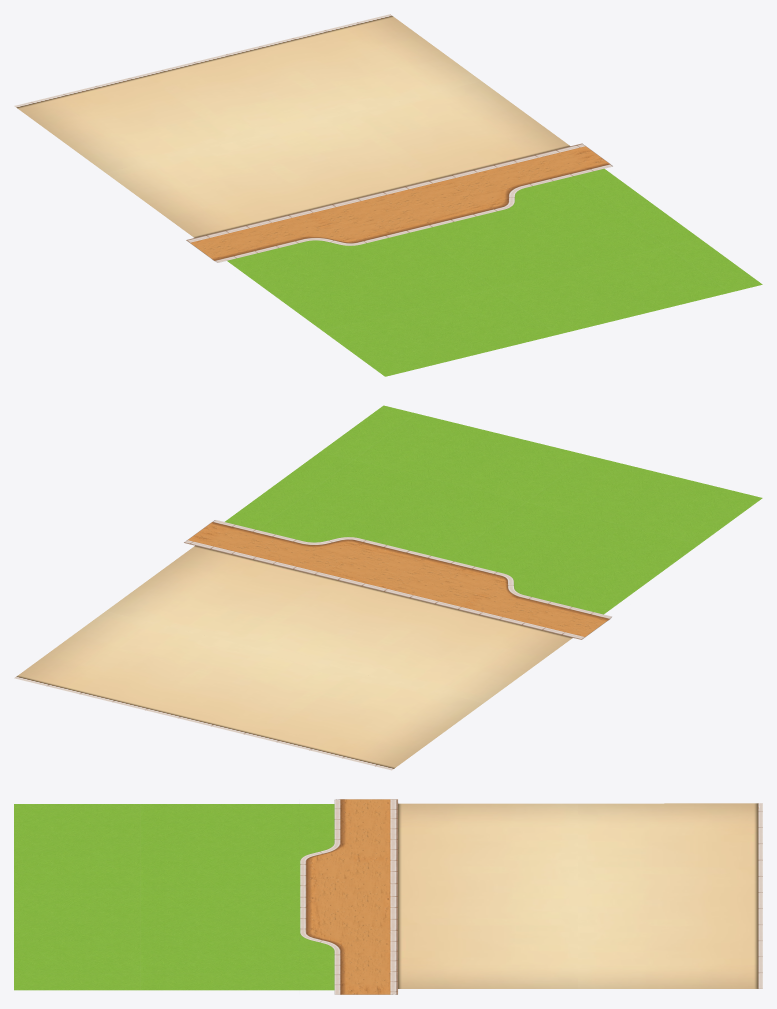
Rendered from source_floor.glb.
3 renders of one model, top to bottom at view 1: azimuth 30°, elevation 25°; view 2: azimuth 150°, elevation 25°; view 3: azimuth 270°, elevation 25°, orthographic.
Visible parts, largest first — view 1: Floor01, Floor03 (2), Floor03 (1), Floor02; view 2: Floor01, Floor03 (2), Floor03 (1), Floor02; view 3: Floor01, Floor03 (2), Floor03 (1), Floor02.
Boxes of the visible parts, bbox=[...] form: Floor01: bbox=[227, 168, 762, 376]; Floor03 (2): bbox=[14, 14, 480, 172]; Floor03 (1): bbox=[106, 81, 570, 237]; Floor02: bbox=[186, 143, 612, 262]; Floor01: bbox=[225, 405, 762, 614]; Floor03 (2): bbox=[14, 611, 483, 770]; Floor03 (1): bbox=[106, 545, 572, 703]; Floor02: bbox=[184, 520, 611, 639]; Floor01: bbox=[14, 804, 334, 990]; Floor03 (2): bbox=[578, 803, 762, 988]; Floor03 (1): bbox=[397, 803, 577, 988]; Floor02: bbox=[300, 799, 398, 994].
Bounding box in the file's own units: 25.64 × 6.41e-05 × 41.46.
3 materials, 3 textured.
